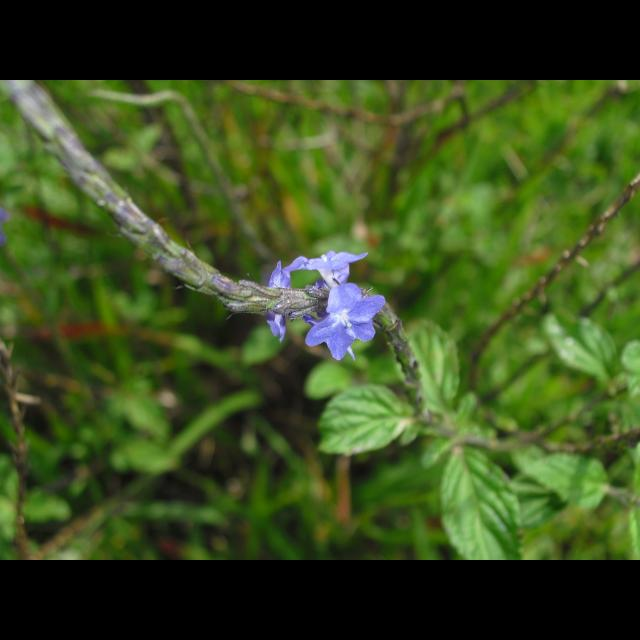Flower: (308, 287, 382, 358), (285, 249, 367, 285), (264, 260, 292, 346)
